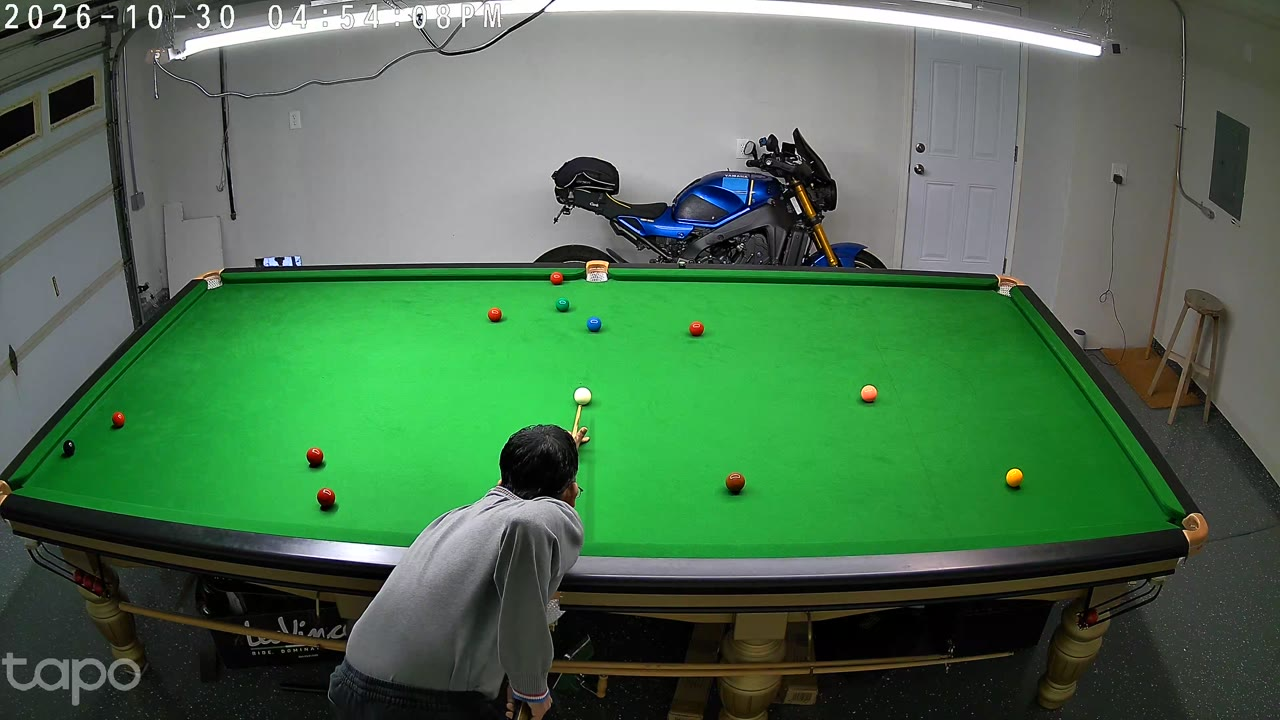black: (63, 438, 75, 459)
blue: (587, 315, 601, 335)
brown: (726, 471, 744, 496)
green: (556, 297, 569, 315)
pink: (860, 384, 876, 404)
red: (317, 486, 336, 512), (307, 445, 323, 469), (690, 320, 704, 340), (112, 410, 125, 430), (488, 306, 501, 325), (551, 271, 562, 288)
white: (574, 386, 592, 409)
yellow: (1006, 467, 1022, 489)
